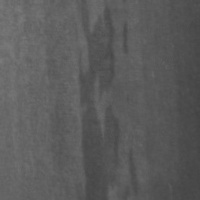inclusion: (71, 0, 126, 200), (118, 135, 144, 198), (116, 12, 138, 63)
